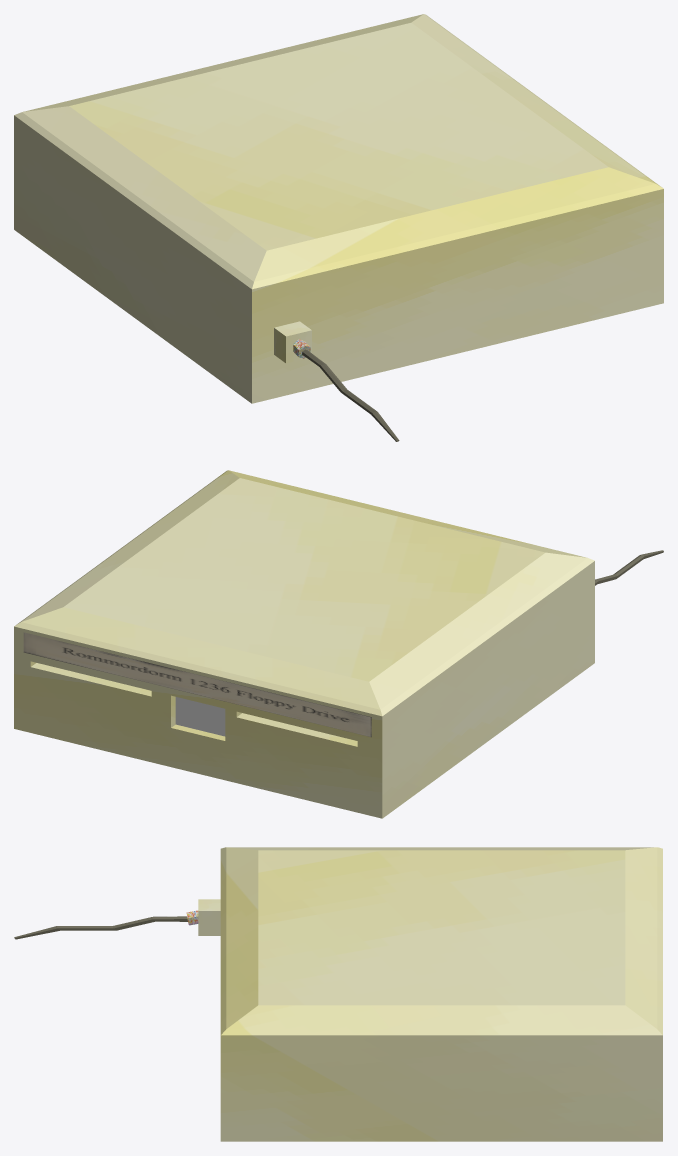
The model's file is floppy reader.fbx.
The picture shows the model from 3 angles, top to bottom: view 1: azimuth 30°, elevation 25°; view 2: azimuth 150°, elevation 25°; view 3: azimuth 270°, elevation 25°; orthographic projection. The views are drawn at different scales.
Visible parts, largest first — view 1: Cube, Cube.002, Circle; view 2: Cube, Plane, Cube.003; view 3: Cube, Circle, Cube.002.
Boxes of the visible parts, x1=… form: Cube: x1=14, y1=14, x2=663, y2=403; Cube.002: x1=274, y1=321, x2=311, y2=363; Circle: x1=302, y1=349, x2=399, y2=441; Cube: x1=14, y1=470, x2=594, y2=818; Plane: x1=23, y1=632, x2=371, y2=737; Cube.003: x1=175, y1=697, x2=225, y2=736; Cube: x1=220, y1=847, x2=662, y2=1141; Circle: x1=14, y1=916, x2=187, y2=939; Cube.002: x1=198, y1=899, x2=220, y2=935.
Bounding box in the file's own units: 2 × 0.6021 × 2.94.
Materials: 5 (4 with a texture image).
